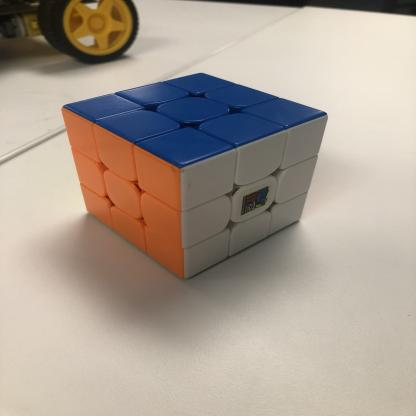SolvedCube: (60, 68, 330, 284)
